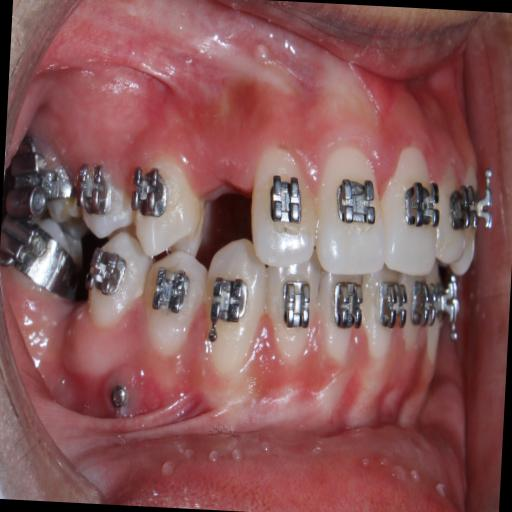correct_brace: (127, 162, 212, 264), (135, 247, 207, 351), (330, 170, 382, 236), (151, 262, 190, 318), (403, 178, 440, 232), (272, 174, 304, 234), (210, 280, 250, 326)
incorrect_brace: (248, 150, 316, 276), (126, 162, 172, 224)
